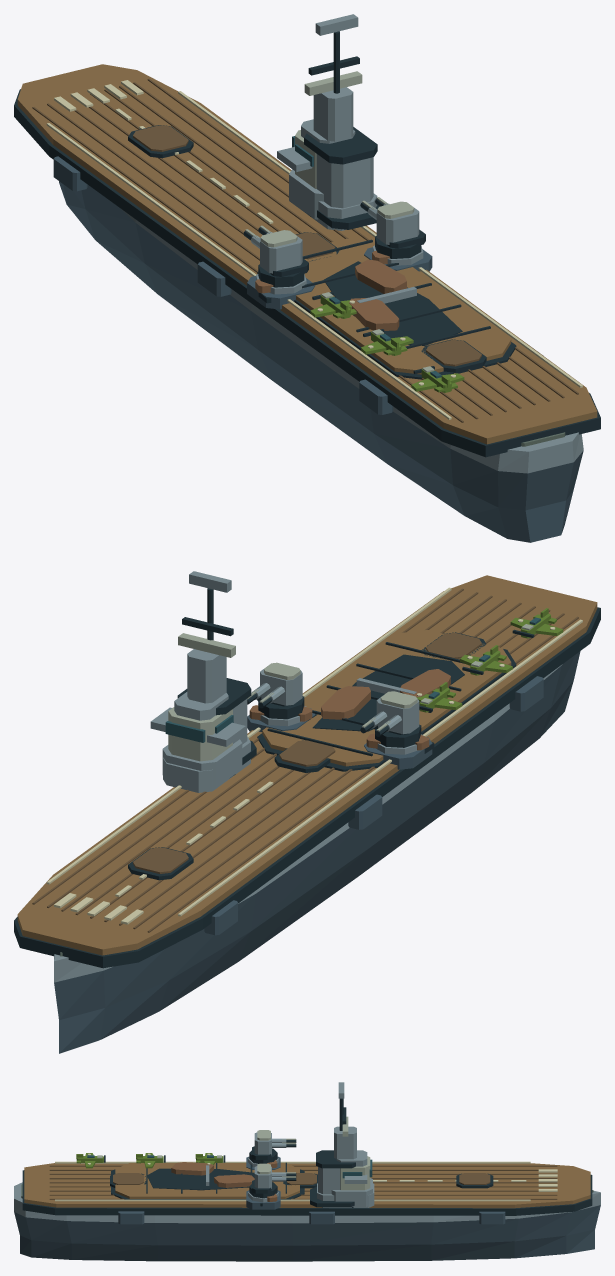
File: historic-enterprise.glb
The picture shows the model from 3 angles, top to bottom: view 1: azimuth 30°, elevation 25°; view 2: azimuth 150°, elevation 25°; view 3: azimuth 270°, elevation 25°; orthographic projection. The views are drawn at different scales.
Parts seen in each view (by area): view 1: historic-enterprise-historic-enterprise-geometry, historic-enterprise-part_flight-deck.002-geometry, historic-enterprise-part_bridge.008-geometry, historic-enterprise-ruin_flight-deck.001-geometry, historic-enterprise-historic_funnel_0.009-geometry, historic-enterprise-turret_aa_aa-starboard.008-geometry, historic-enterprise-turret_aa_aa-port.010-geometry, historic-enterprise-aircraft_lift_0.002-geometry, historic-enterprise-aircraft_lift_2.002-geometry, historic-enterprise-part_aa-port.010-geometry, historic-enterprise-parked_aircraft_0.002-geometry, historic-enterprise-parked_aircraft_1.002-geometry (+2 smaller); view 2: historic-enterprise-historic-enterprise-geometry, historic-enterprise-part_bridge.008-geometry, historic-enterprise-part_flight-deck.002-geometry, historic-enterprise-ruin_flight-deck.001-geometry, historic-enterprise-historic_funnel_0.009-geometry, historic-enterprise-turret_aa_aa-port.010-geometry, historic-enterprise-turret_aa_aa-starboard.008-geometry, historic-enterprise-aircraft_lift_0.002-geometry, historic-enterprise-aircraft_lift_1.002-geometry, historic-enterprise-aircraft_lift_2.002-geometry, historic-enterprise-part_aa-port.010-geometry, historic-enterprise-parked_aircraft_0.002-geometry (+3 smaller); view 3: historic-enterprise-historic-enterprise-geometry, historic-enterprise-part_flight-deck.002-geometry, historic-enterprise-part_bridge.008-geometry, historic-enterprise-ruin_flight-deck.001-geometry, historic-enterprise-historic_funnel_0.009-geometry, historic-enterprise-turret_aa_aa-starboard.008-geometry, historic-enterprise-turret_aa_aa-port.010-geometry, historic-enterprise-aircraft_lift_0.002-geometry, historic-enterprise-part_aa-starboard.008-geometry, historic-enterprise-aircraft_lift_2.002-geometry, historic-enterprise-aircraft_lift_1.002-geometry, historic-enterprise-parked_aircraft_0.002-geometry (+2 smaller).
Part boxes in pixels (box(x1,y1,x2,y2)): historic-enterprise-historic-enterprise-geometry: box(14, 64, 600, 542); historic-enterprise-part_flight-deck.002-geometry: box(257, 238, 516, 379); historic-enterprise-part_bridge.008-geometry: box(277, 14, 362, 219); historic-enterprise-ruin_flight-deck.001-geometry: box(324, 259, 462, 345); historic-enterprise-historic_funnel_0.009-geometry: box(289, 127, 379, 230); historic-enterprise-turret_aa_aa-starboard.008-geometry: box(360, 197, 425, 258); historic-enterprise-turret_aa_aa-port.010-geometry: box(243, 225, 308, 287); historic-enterprise-aircraft_lift_0.002-geometry: box(128, 125, 193, 158); historic-enterprise-aircraft_lift_2.002-geometry: box(421, 339, 486, 372); historic-enterprise-part_aa-port.010-geometry: box(247, 274, 315, 309); historic-enterprise-parked_aircraft_0.002-geometry: box(411, 366, 464, 392); historic-enterprise-parked_aircraft_1.002-geometry: box(361, 329, 413, 355); historic-enterprise-historic-enterprise-geometry: box(14, 575, 600, 1053); historic-enterprise-part_bridge.008-geometry: box(150, 571, 245, 788); historic-enterprise-part_flight-deck.002-geometry: box(257, 630, 516, 771); historic-enterprise-ruin_flight-deck.001-geometry: box(312, 654, 464, 731); historic-enterprise-historic_funnel_0.009-geometry: box(163, 678, 256, 792); historic-enterprise-turret_aa_aa-port.010-geometry: box(360, 691, 421, 747); historic-enterprise-turret_aa_aa-starboard.008-geometry: box(247, 662, 304, 719); historic-enterprise-aircraft_lift_0.002-geometry: box(128, 847, 193, 880); historic-enterprise-aircraft_lift_1.002-geometry: box(274, 740, 335, 772); historic-enterprise-aircraft_lift_2.002-geometry: box(421, 632, 486, 661); historic-enterprise-part_aa-port.010-geometry: box(364, 734, 432, 769); historic-enterprise-parked_aircraft_0.002-geometry: box(510, 608, 563, 638); historic-enterprise-historic-enterprise-geometry: box(14, 1161, 600, 1261); historic-enterprise-part_flight-deck.002-geometry: box(111, 1162, 304, 1199); historic-enterprise-part_bridge.008-geometry: box(331, 1082, 372, 1206); historic-enterprise-ruin_flight-deck.001-geometry: box(147, 1162, 254, 1190); historic-enterprise-historic_funnel_0.009-geometry: box(310, 1150, 374, 1207); historic-enterprise-turret_aa_aa-starboard.008-geometry: box(249, 1163, 296, 1198); historic-enterprise-turret_aa_aa-port.010-geometry: box(249, 1130, 296, 1163); historic-enterprise-aircraft_lift_0.002-geometry: box(456, 1173, 493, 1188); historic-enterprise-part_aa-starboard.008-geometry: box(246, 1190, 280, 1209); historic-enterprise-aircraft_lift_2.002-geometry: box(110, 1173, 146, 1187); historic-enterprise-aircraft_lift_1.002-geometry: box(283, 1173, 317, 1188); historic-enterprise-parked_aircraft_0.002-geometry: box(76, 1153, 105, 1168).
Bounding box in the file's own units: 1.28 × 1.99 × 5.89.
